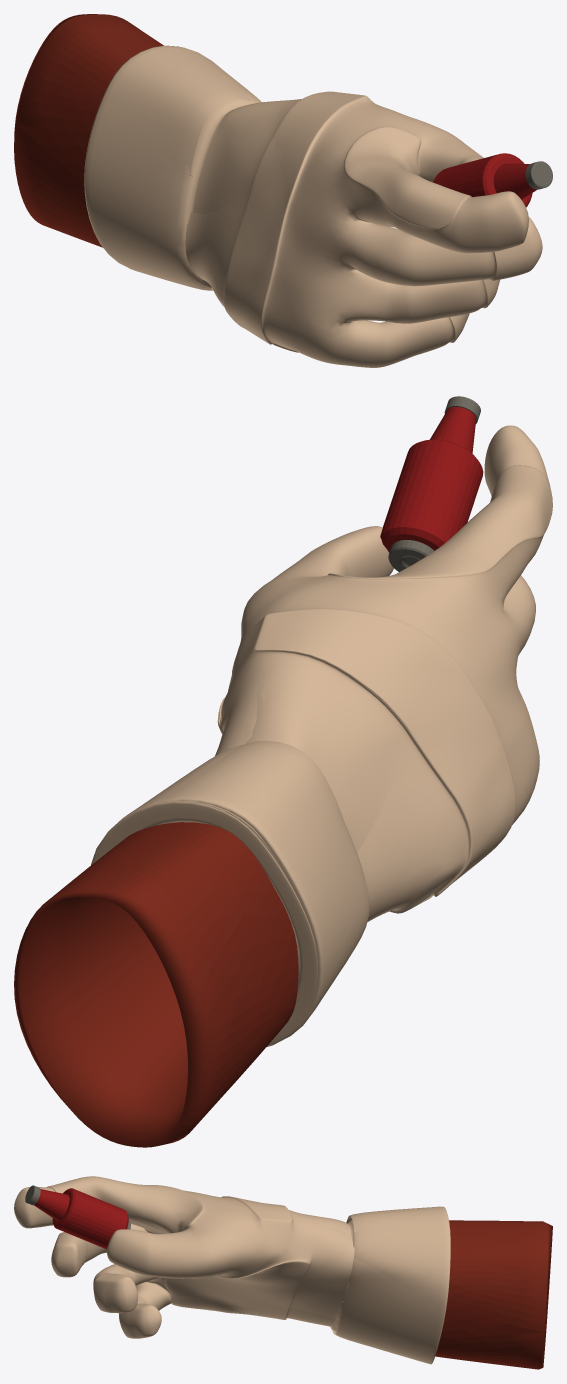
File: glove-with-dummyfuse.fbx
The picture shows the model from 3 angles, top to bottom: view 1: azimuth 30°, elevation 25°; view 2: azimuth 150°, elevation 25°; view 3: azimuth 270°, elevation 25°; orthographic projection. The views are drawn at different scales.
Visible parts, largest first — view 1: WorkGloves_RightWorkGloves, gloves.001_Cube.001, Fuse_Circle.002; view 2: WorkGloves_RightWorkGloves, gloves.001_Cube.001, Fuse_Circle.002; view 3: WorkGloves_RightWorkGloves, gloves.001_Cube.001, Fuse_Circle.002.
Boxes of the visible parts, x1,y1,x2,y2 form: WorkGloves_RightWorkGloves: (84, 45, 542, 367); gloves.001_Cube.001: (14, 14, 190, 247); Fuse_Circle.002: (433, 153, 552, 207); WorkGloves_RightWorkGloves: (91, 425, 552, 1046); gloves.001_Cube.001: (14, 822, 298, 1147); Fuse_Circle.002: (380, 396, 483, 571); WorkGloves_RightWorkGloves: (14, 1176, 450, 1364); gloves.001_Cube.001: (435, 1220, 552, 1369); Fuse_Circle.002: (25, 1185, 130, 1249).
Bounding box in the file's own units: 407 × 539 × 1247.
